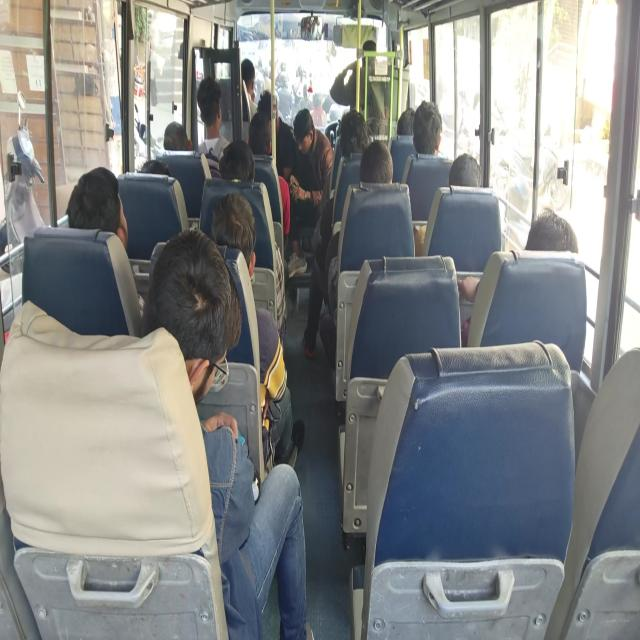person: (149, 230, 225, 373), (59, 150, 122, 246), (201, 187, 264, 272), (524, 197, 575, 264), (364, 137, 407, 199), (453, 150, 500, 205), (197, 79, 240, 138), (417, 108, 456, 162), (138, 159, 179, 207), (217, 140, 249, 192), (297, 114, 331, 162), (344, 116, 375, 167), (166, 119, 197, 164), (254, 86, 284, 120), (246, 118, 277, 150), (236, 56, 256, 99), (400, 114, 424, 144)
